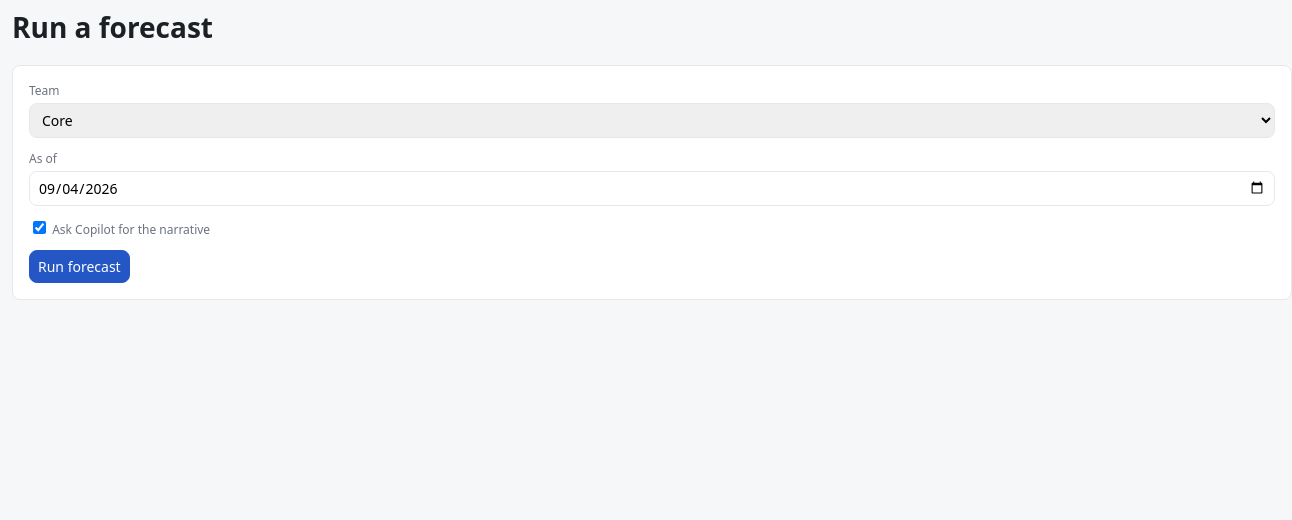
Test case: Run › runs the forecast then the narrative and links to the result
The width and height of the screenshot is (1292, 520).
Click the button "Run forecast": (79, 266) [29, 250, 130, 282]
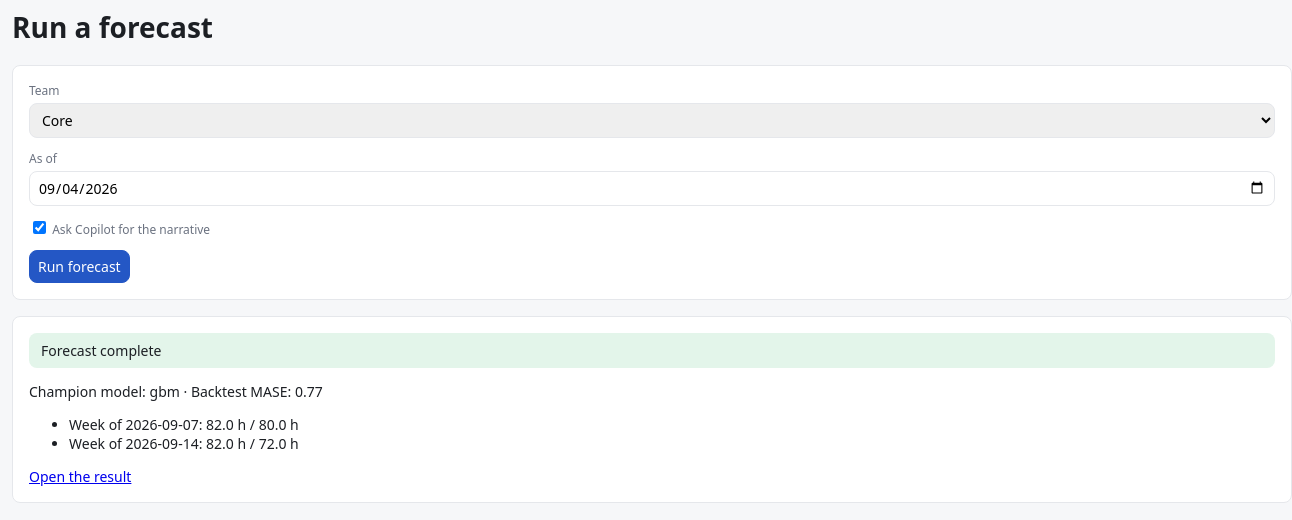
Expected: the text "Forecast complete" is shown, [29, 332, 1275, 368]
